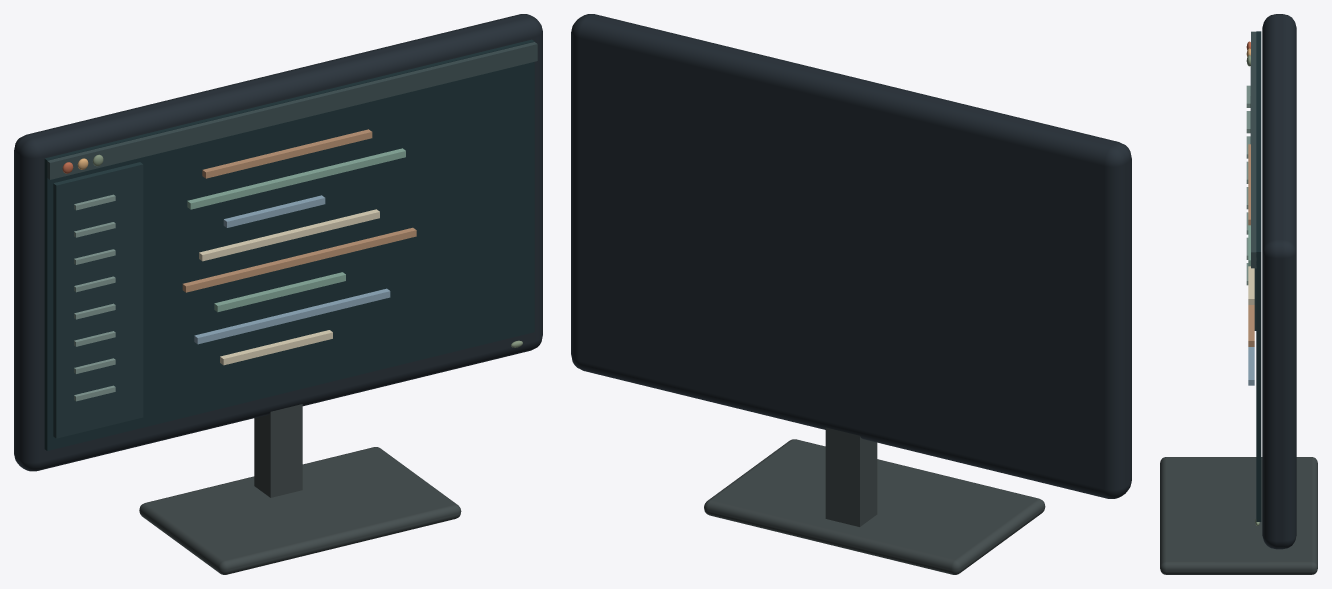
File: monitor.glb
3 renders of one model, left to right at view 1: azimuth 30°, elevation 25°; view 2: azimuth 150°, elevation 25°; view 3: azimuth 270°, elevation 25°, orthographic. The views are drawn at different scales.
Bounding box in the file's own units: 1.38 × 1.08 × 0.39.
